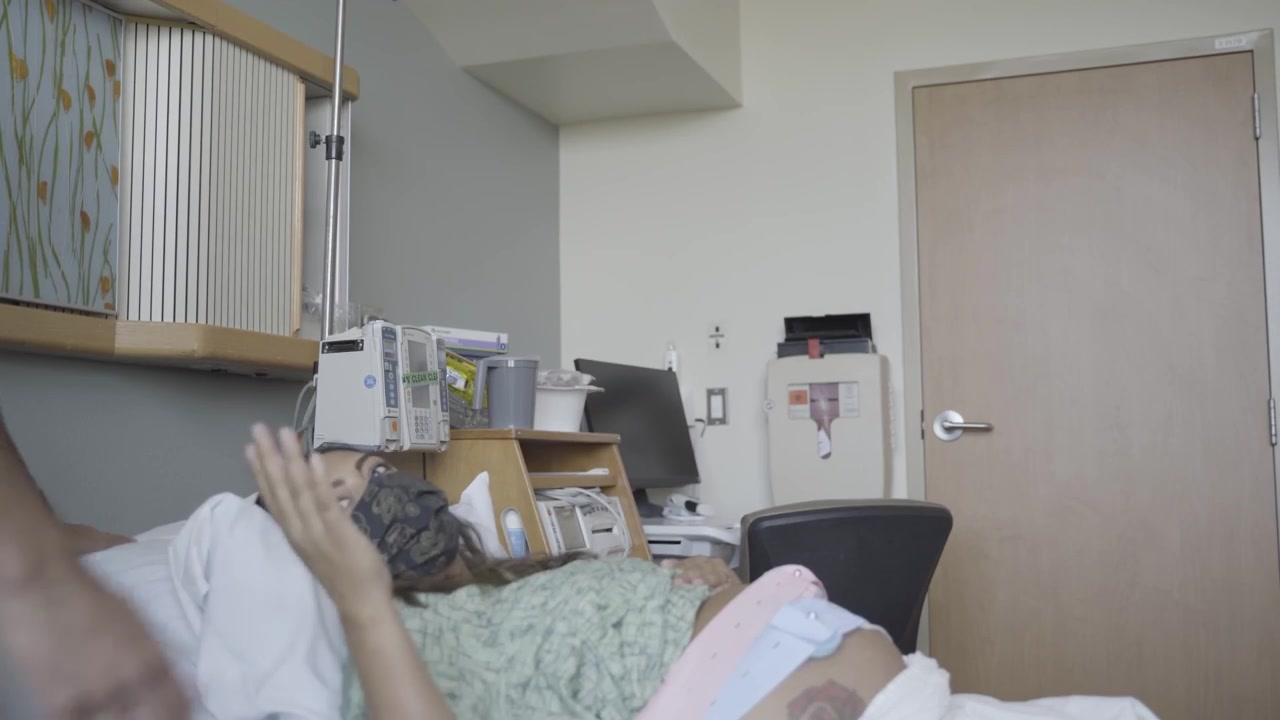bedside_table: (431, 429, 641, 562)
chair: (738, 499, 953, 655)
computer: (574, 357, 702, 487)
dispenser: (765, 353, 894, 507)
door_handle: (930, 409, 993, 443)
hospital_bed: (79, 471, 1165, 720)
infusion_pump: (313, 320, 450, 453)
iv_pole: (309, 1, 348, 340)
patient: (241, 422, 909, 720)
